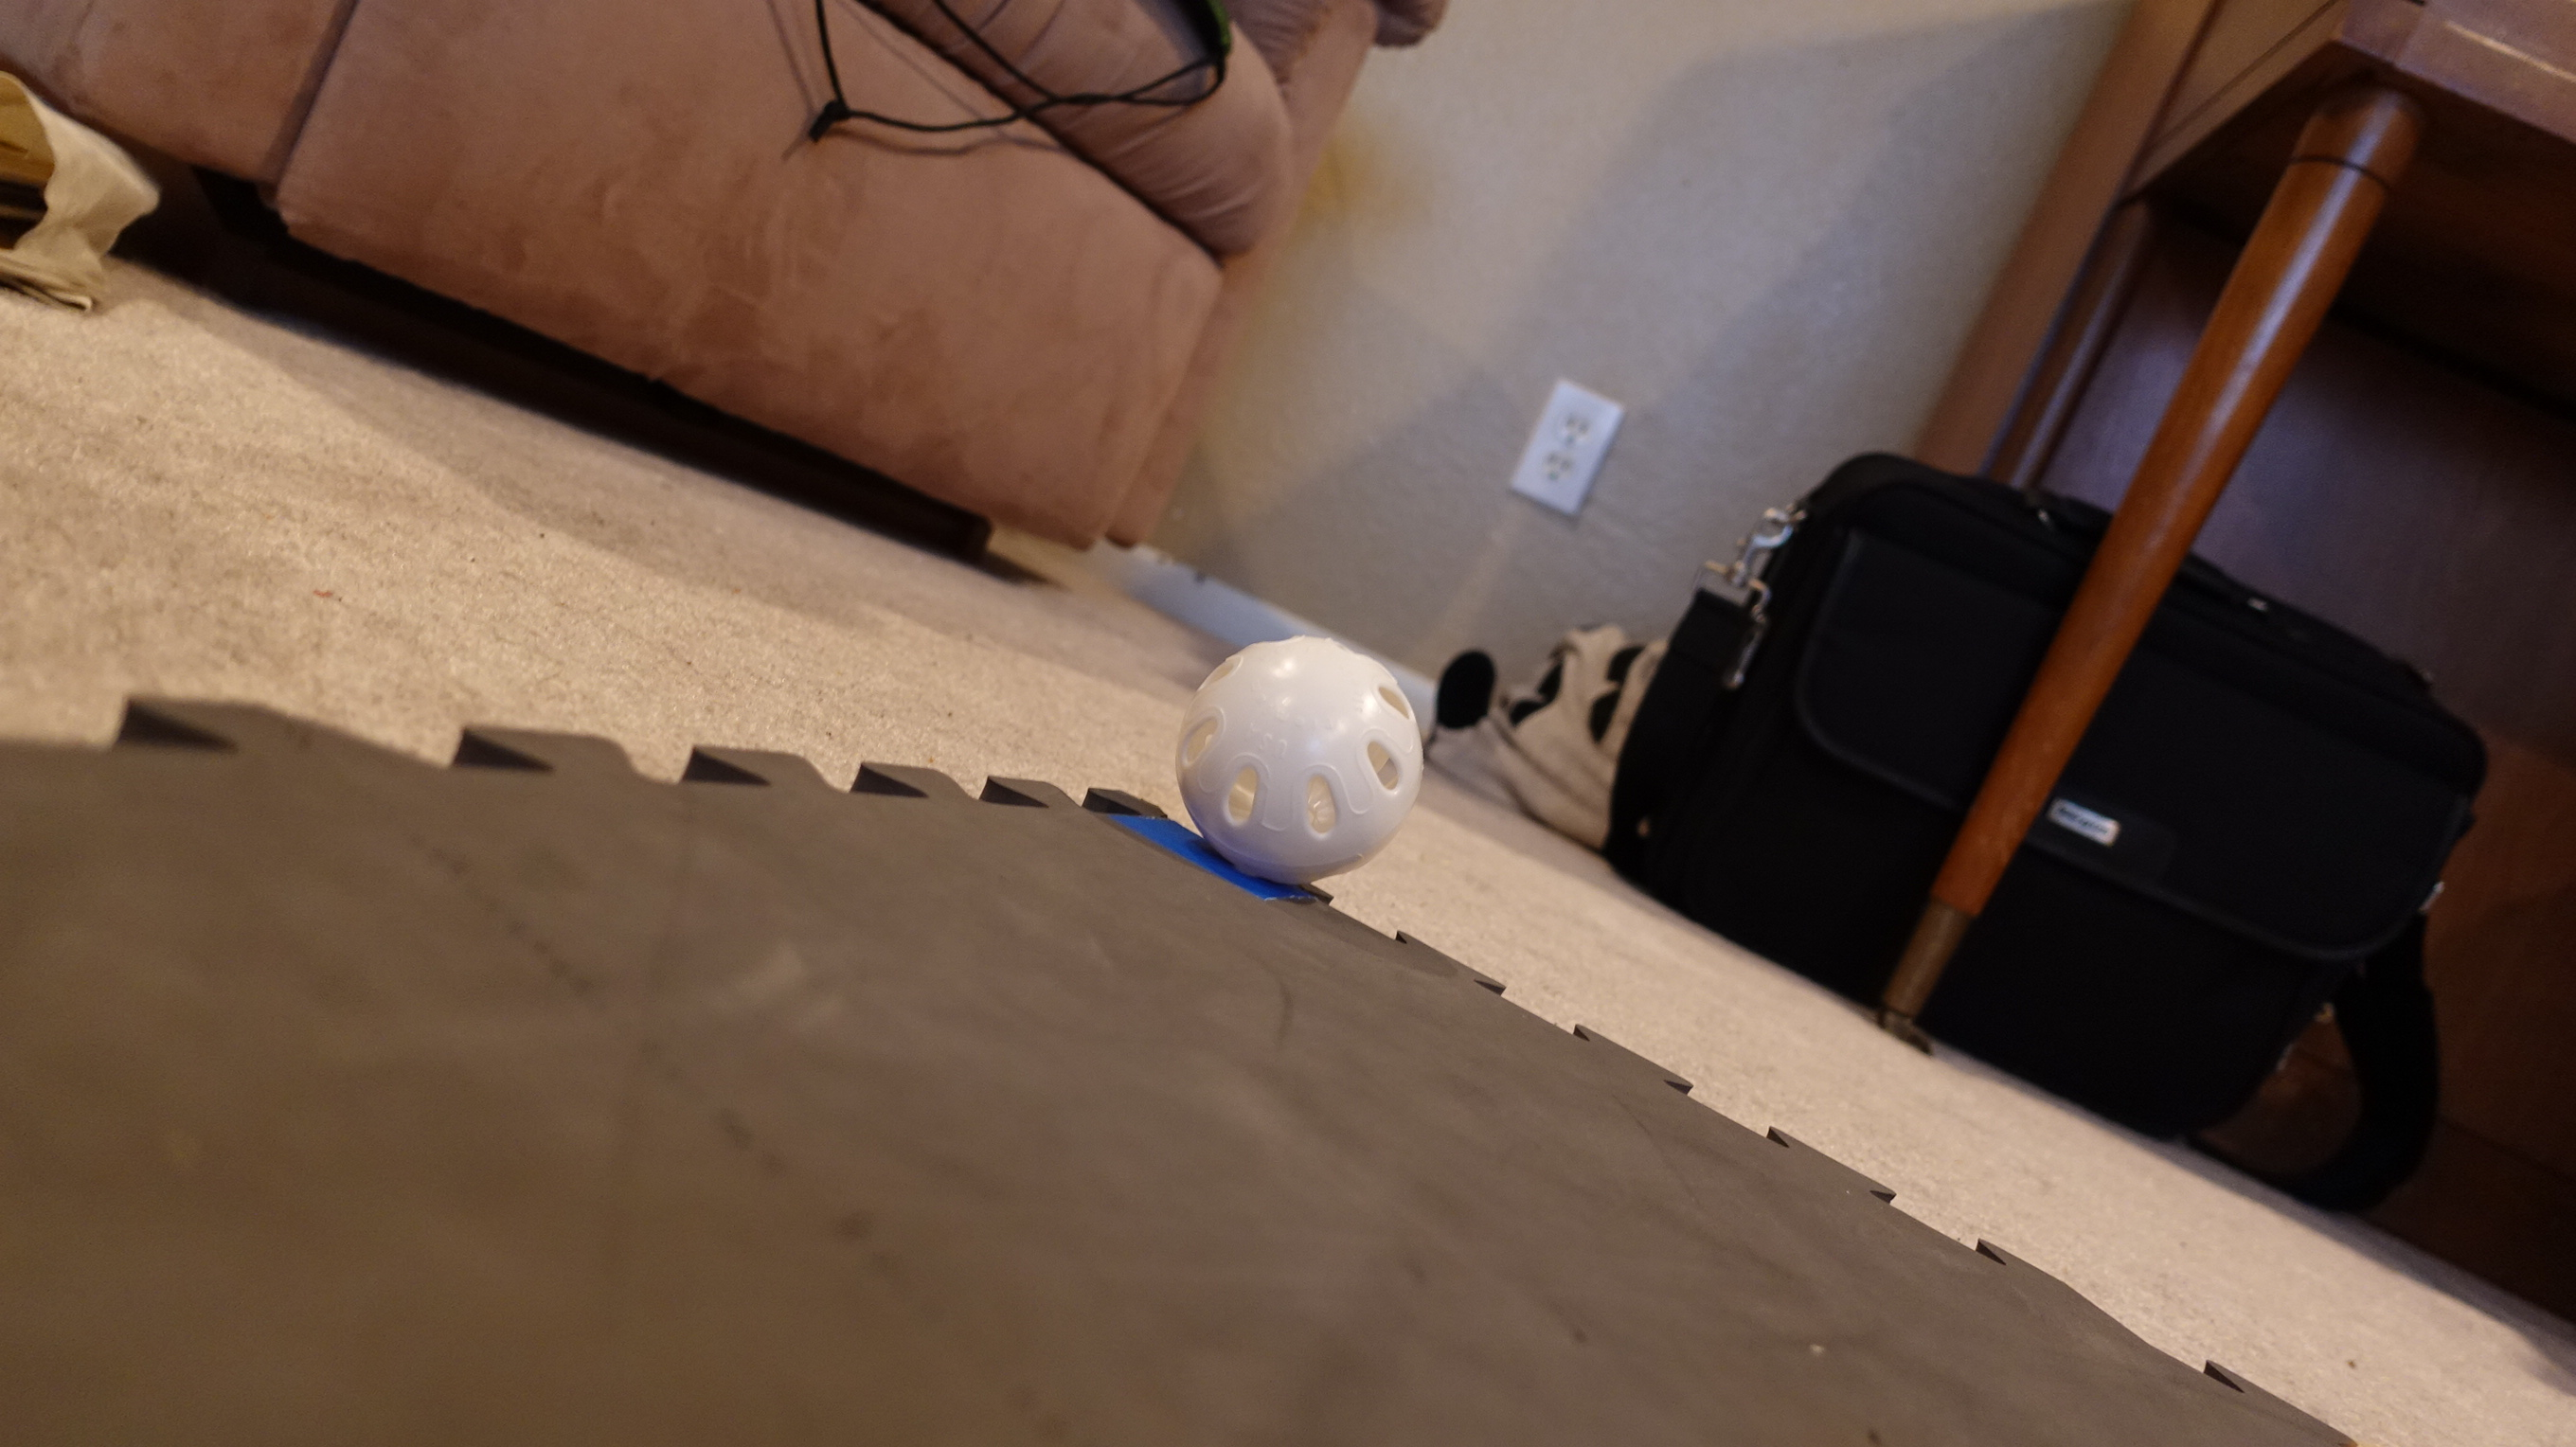silver: (1171, 626, 1428, 890)
